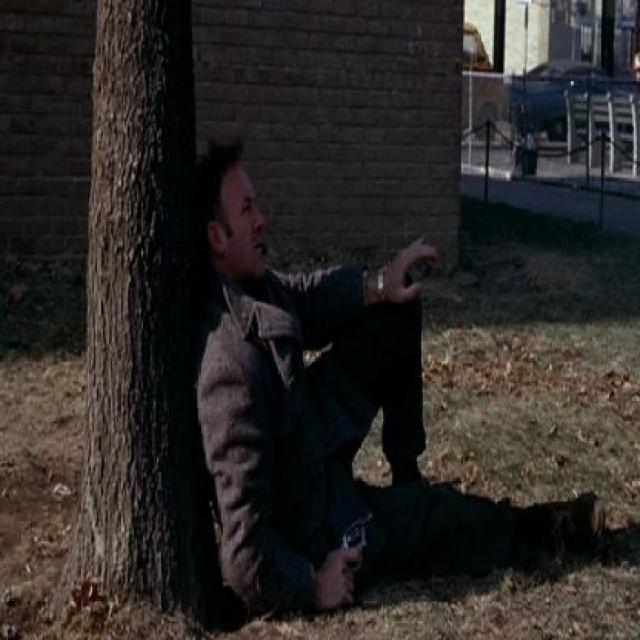gun: (332, 482, 394, 590)
